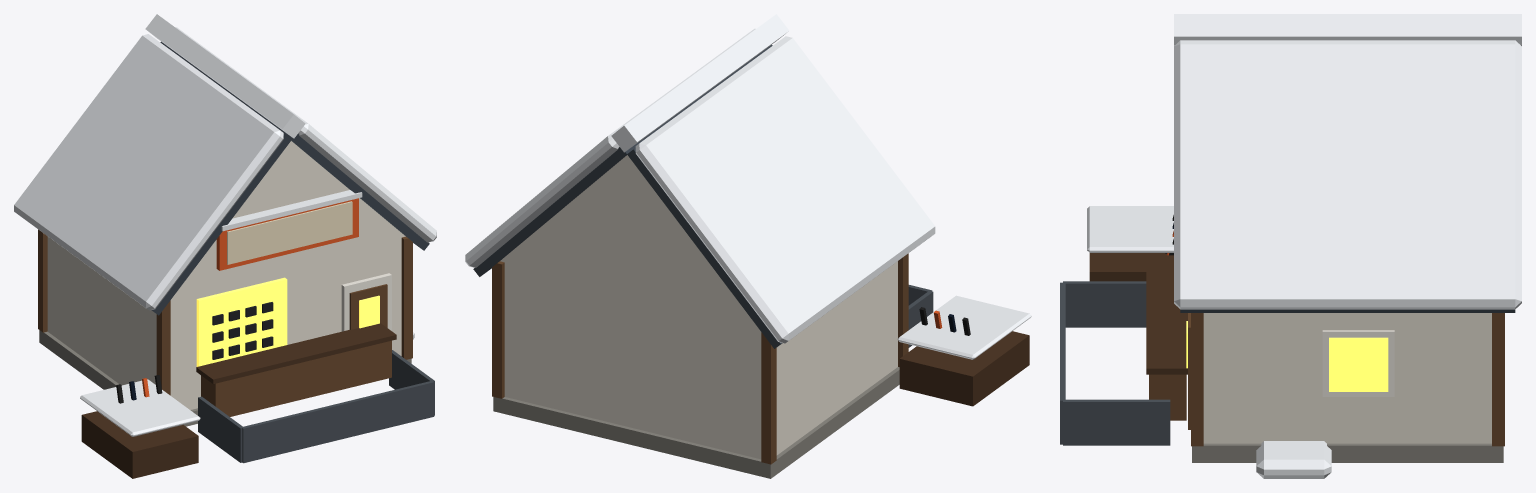
File: rental-shop.glb
3 renders of one model, left to right at view 1: azimuth 30°, elevation 25°; view 2: azimuth 150°, elevation 25°; view 3: azimuth 270°, elevation 25°, orthographic. The views are drawn at different scales.
Visible parts, largest first — view 1: rental-shop; view 2: rental-shop; view 3: rental-shop.
Part boxes in pixels (x1=…): rental-shop: x1=14, y1=14, x2=436, y2=478; rental-shop: x1=465, y1=14, x2=1031, y2=478; rental-shop: x1=1060, y1=14, x2=1521, y2=478.
Size of the model in its own units: 9.6 by 7.62 by 8.59.
